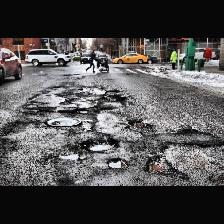pothole: (84, 140, 118, 152), (146, 159, 166, 175), (106, 157, 128, 169), (129, 120, 151, 128), (78, 109, 89, 113)
